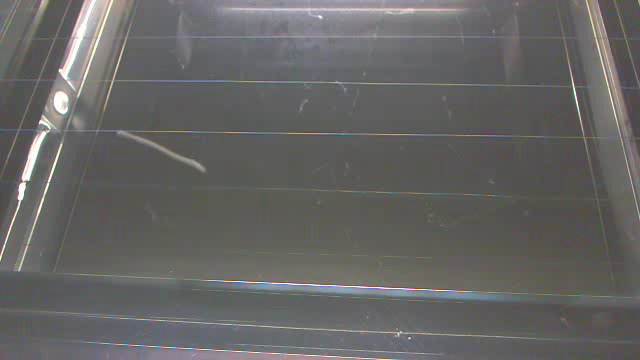alpha: (113, 127, 208, 177)
